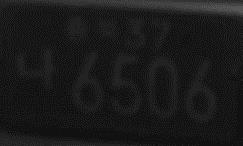0: (148, 58, 179, 119)
3: (125, 17, 145, 50)
5: (111, 55, 142, 120)
6: (185, 58, 216, 125), (72, 52, 103, 114)
7: (148, 17, 169, 49)
나: (15, 47, 56, 97)
충북_O: (65, 12, 120, 47)
